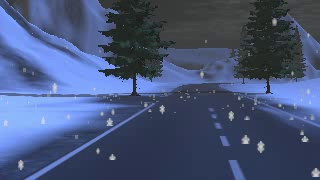Lane: (30, 82, 319, 179)
